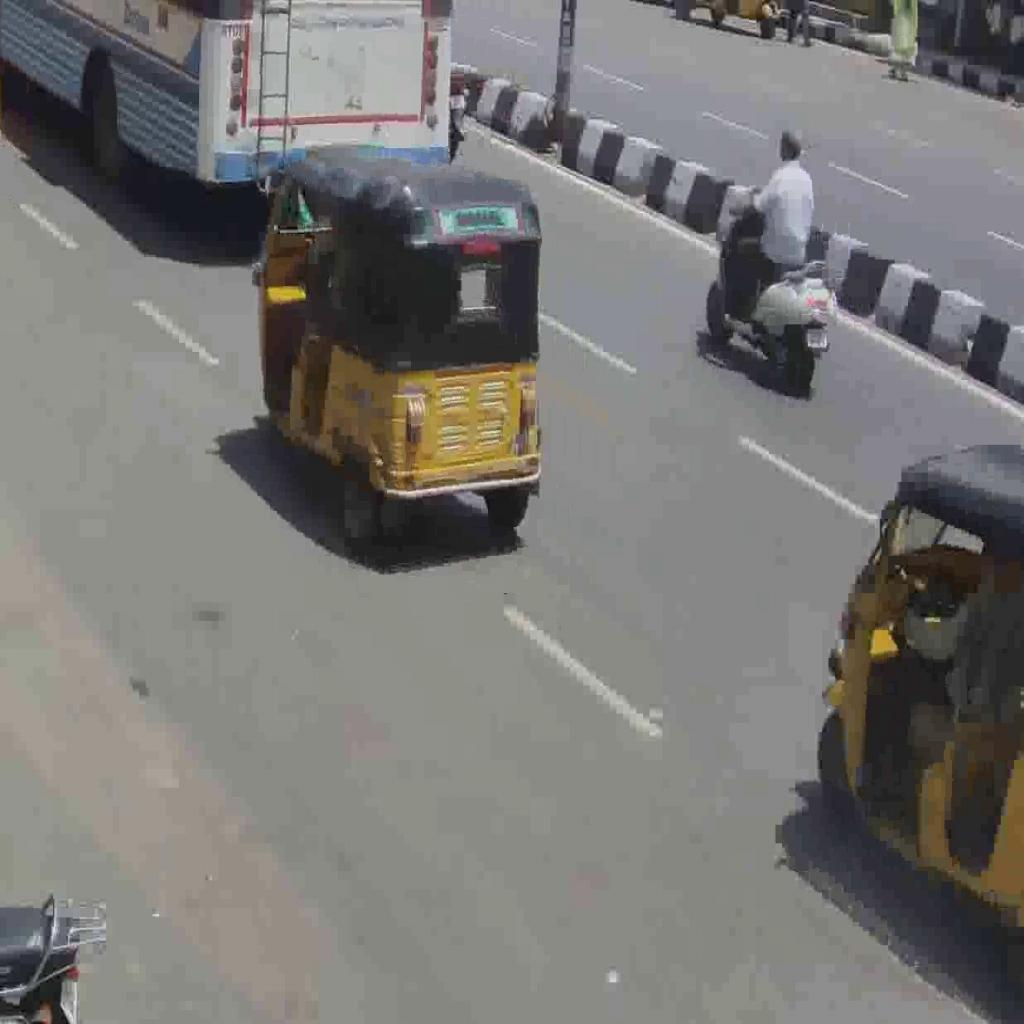helmet: (705, 182, 838, 399)
